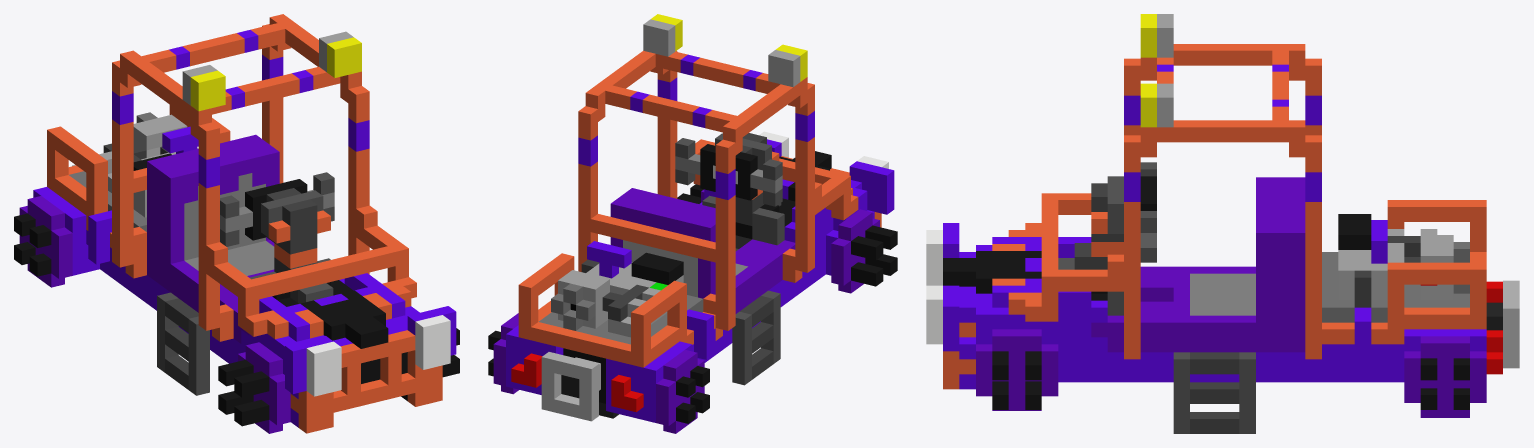
The model's file is Orange_Purple_Kart_Chassis.obj.
The picture shows the model from 3 angles, left to right: view 1: azimuth 30°, elevation 25°; view 2: azimuth 150°, elevation 25°; view 3: azimuth 270°, elevation 25°; orthographic projection. The views are drawn at different scales.
Bounding box in the file's own units: 1.6 × 2.3 × 3.6.
Materials: 1 (1 with a texture image).
